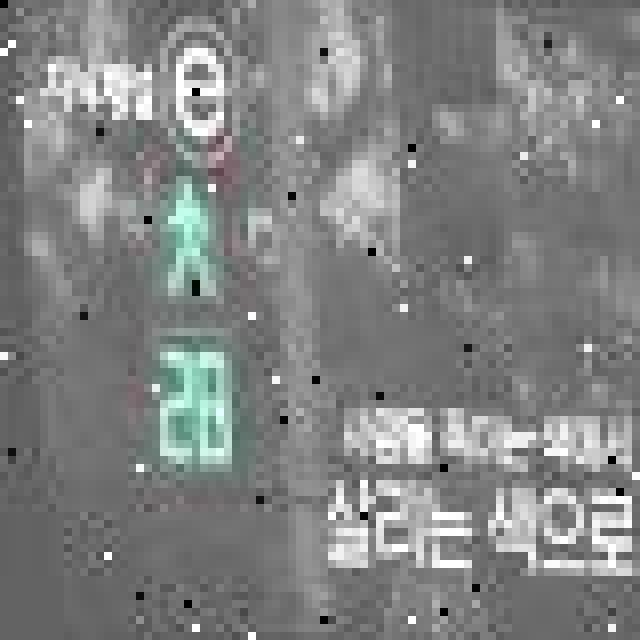greenlight: (123, 1, 249, 317)
